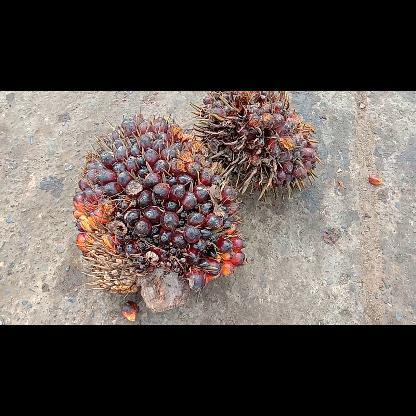Kurang masak: (71, 108, 245, 312)
TBS masak: (191, 91, 322, 201)
